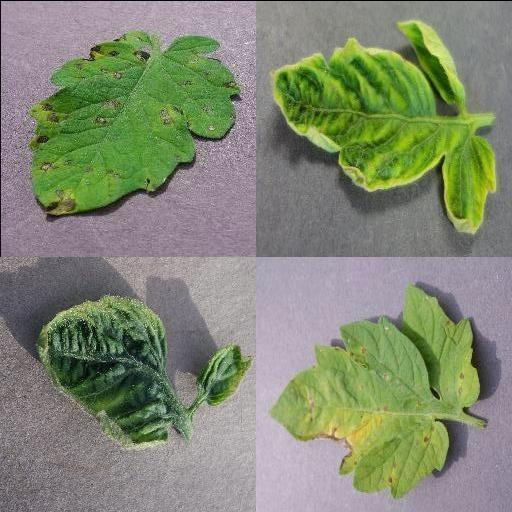Septoria: (269, 284, 481, 496), (26, 30, 237, 220)
Yellow Leaf Curl Virus: (267, 21, 497, 235), (36, 292, 170, 448), (197, 342, 251, 406)
